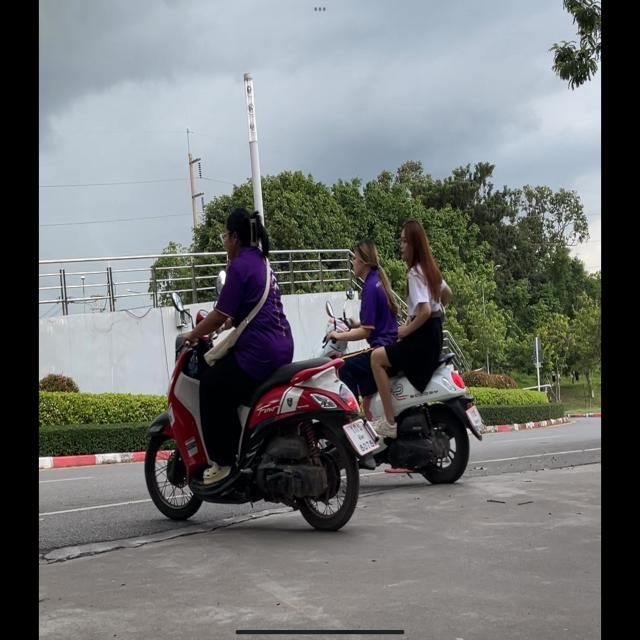seatbelt: (220, 207, 260, 261), (398, 219, 427, 263), (350, 239, 378, 279)
